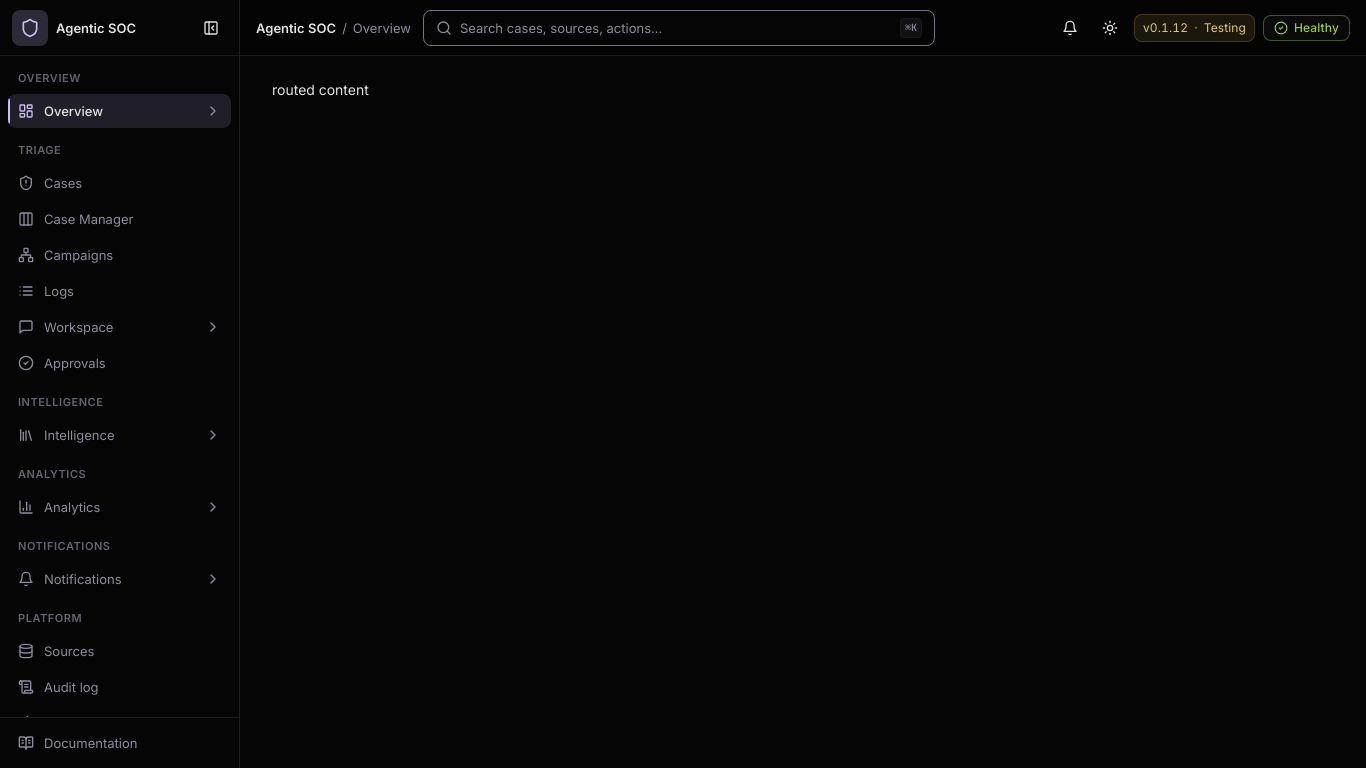
Test case: AppShell top-nav search (W0.10) › keeps the desktop hamburger keyboard-operable and persists its rail state
Click the button named "Collapse navigation" at (211, 28), box top-left (195, 12), bottom-right (227, 44)
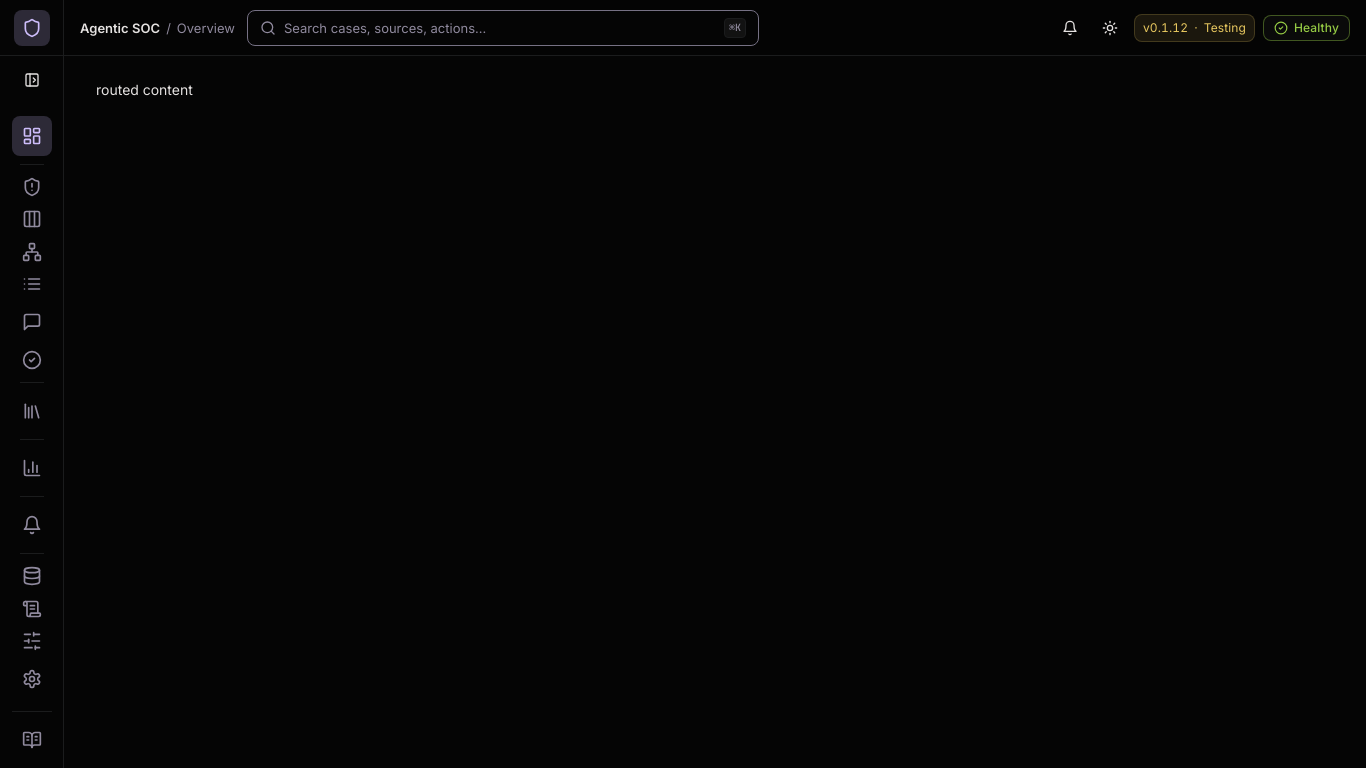
Result: the button named "Expand navigation" is shown at top-left (16, 64), bottom-right (48, 96)
Press b
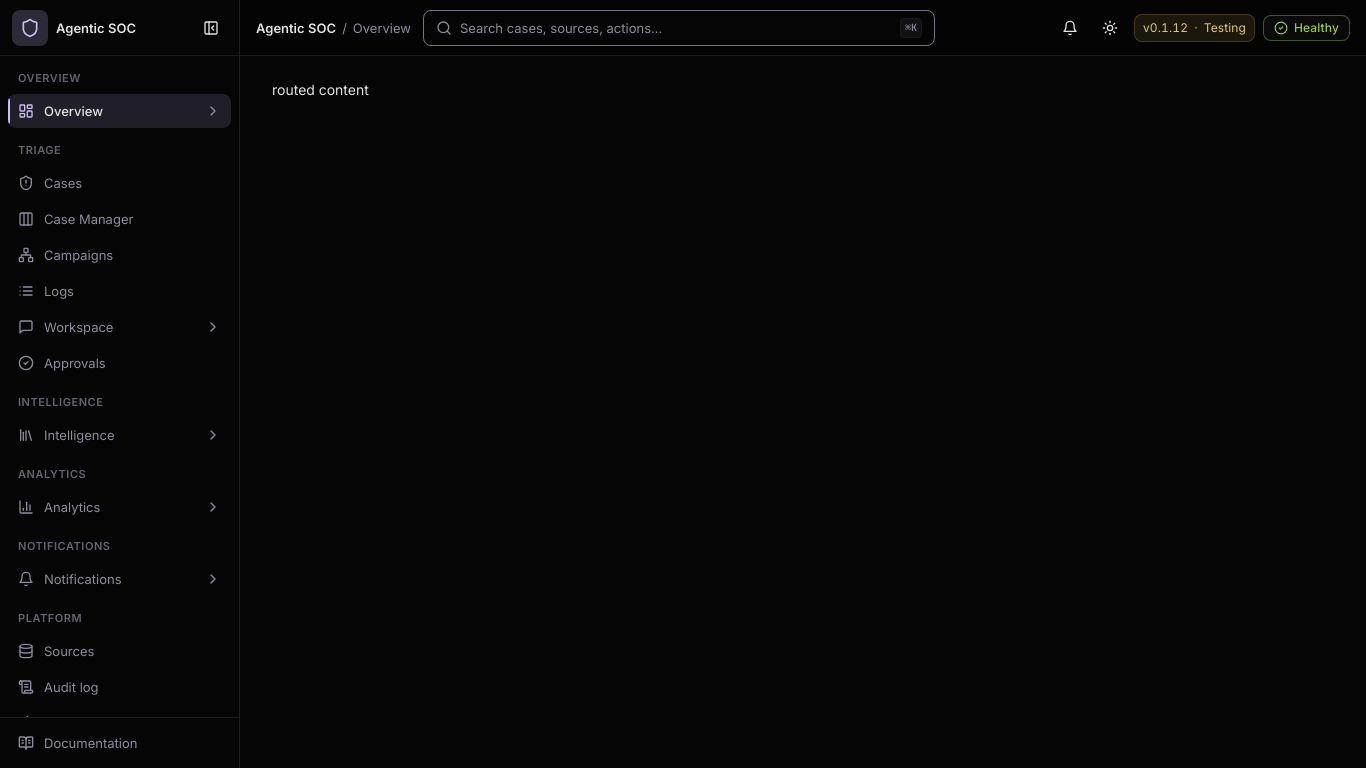
Result: the button named "Collapse navigation" is shown at top-left (195, 12), bottom-right (227, 44)
